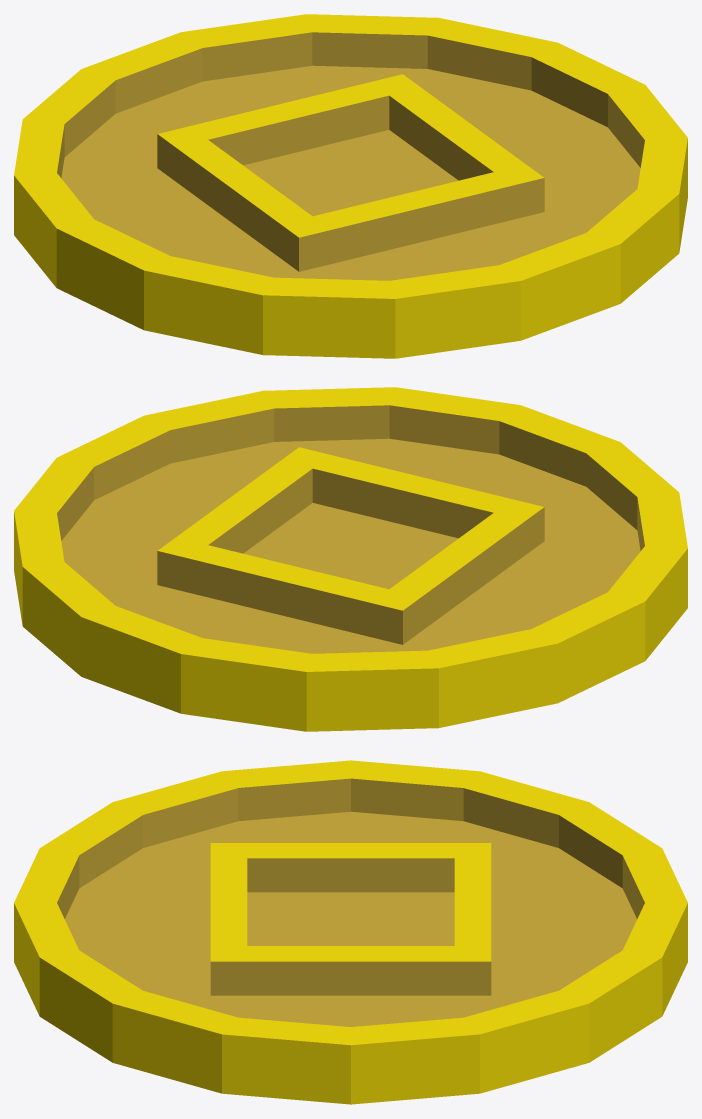
The model's file is Coin_Square.fbx.
The picture shows the model from 3 angles, top to bottom: view 1: azimuth 30°, elevation 25°; view 2: azimuth 150°, elevation 25°; view 3: azimuth 270°, elevation 25°; orthographic projection.
Parts seen in each view (by area): view 1: Coin_Square; view 2: Coin_Square; view 3: Coin_Square.
Boxes of the visible parts, x1,y1,x2,y2 form: Coin_Square: [14, 14, 687, 358]; Coin_Square: [14, 387, 687, 731]; Coin_Square: [14, 760, 687, 1104].
Bounding box in the file's own units: 0.2 × 0.2 × 0.0196.
